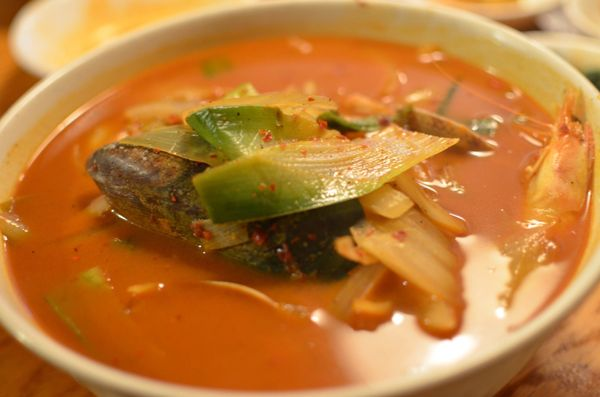sushi: (20, 5, 599, 388)
